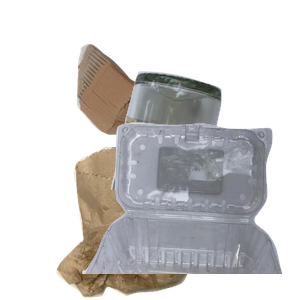cardboard: (74, 42, 225, 170)
glass: (109, 69, 300, 249)
plastic: (80, 120, 300, 300)
trash: (54, 147, 271, 300)
